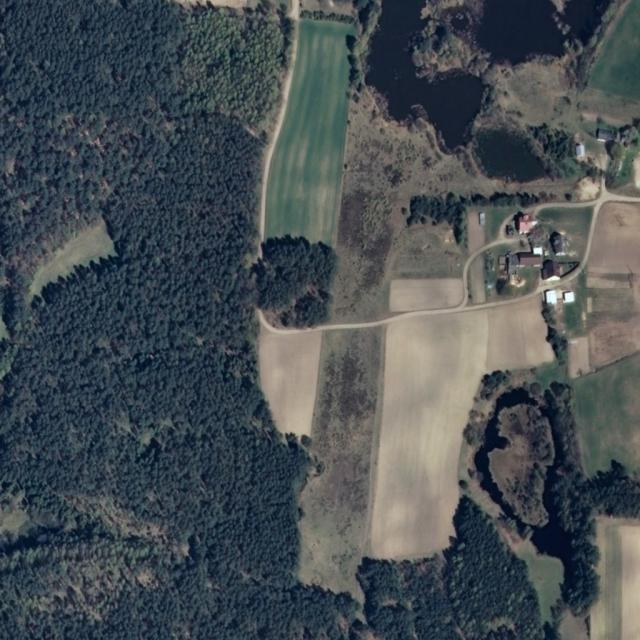agricultural_land: (462, 381, 555, 499)
greenland: (439, 343, 640, 640), (247, 233, 338, 329)
wetland: (333, 0, 504, 168), (470, 125, 551, 185)
